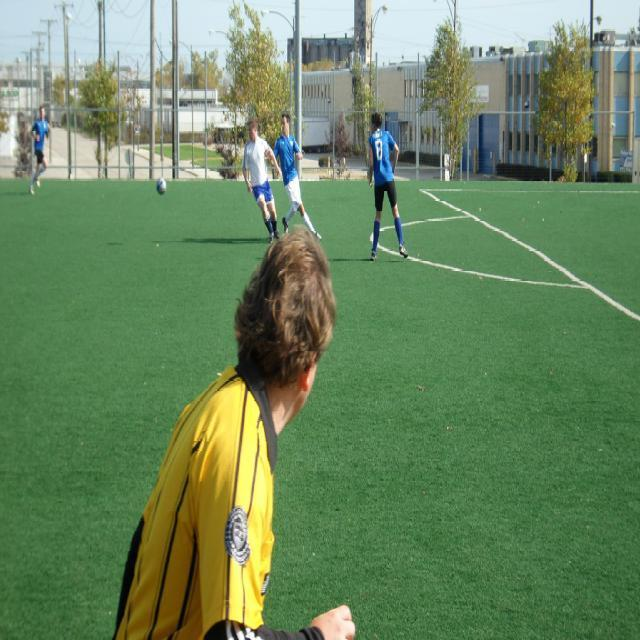football: (158, 177, 174, 204)
